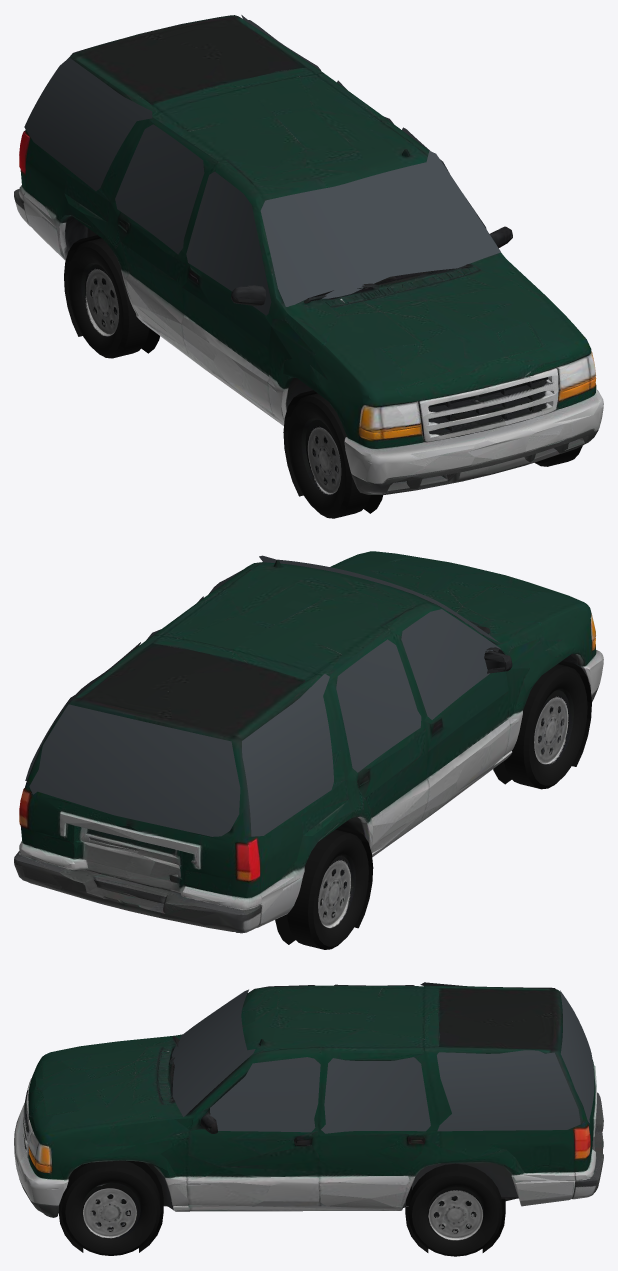
Rendered from suv.glb.
3 views of the same model, one above another, from view 1: azimuth 30°, elevation 25°; view 2: azimuth 150°, elevation 25°; view 3: azimuth 270°, elevation 25° (orthographic). The views are drawn at different scales.
Parts seen in each view (by area): view 1: body, glass, wheel_fr, wheel_rr; view 2: body, glass, wheel_fr, wheel_rr; view 3: body, glass, wheel_fl, wheel_rl.
Boxes of the visible parts, <box> form: body: <box>14,15,603,513</box>; glass: <box>24,15,500,315</box>; wheel_fr: <box>288,393,370,518</box>; wheel_rr: <box>68,238,149,358</box>; body: <box>14,551,603,944</box>; glass: <box>25,555,500,836</box>; wheel_fr: <box>503,664,587,789</box>; wheel_rr: <box>286,829,368,949</box>; body: <box>14,985,603,1252</box>; glass: <box>172,982,594,1133</box>; wheel_fl: <box>61,1160,160,1255</box>; wheel_rl: <box>408,1163,502,1256</box>.
Size of the model in its own units: 2.07 by 1.79 by 4.85.
3 materials, 2 textured.
